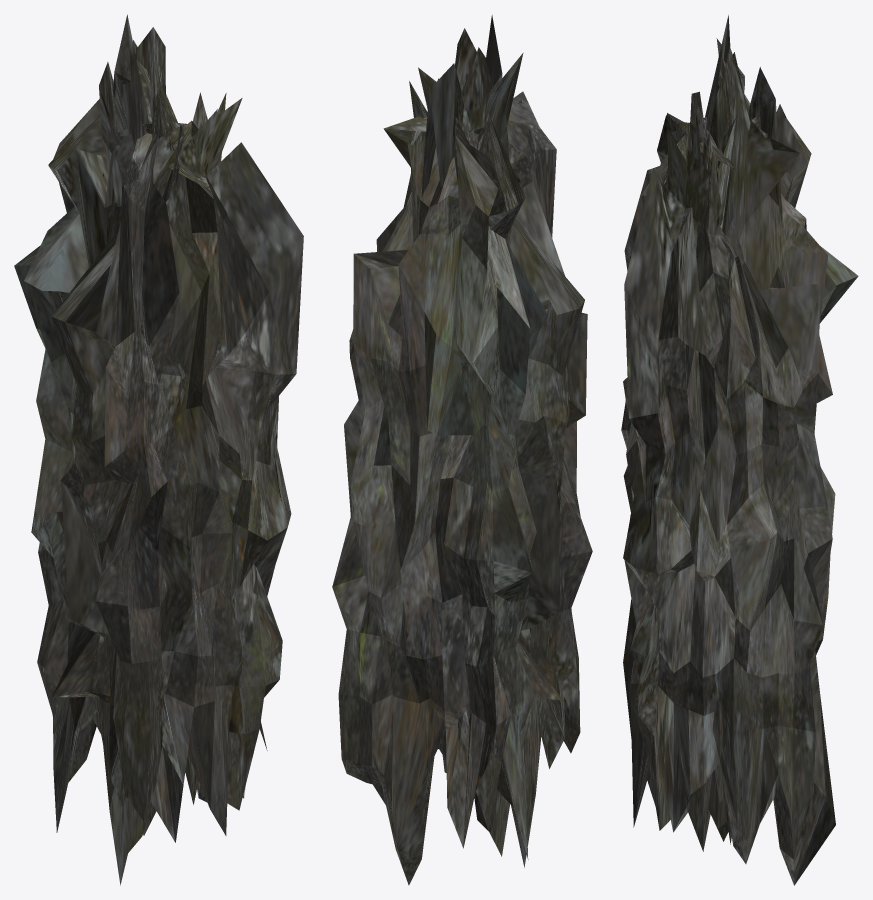
The model's file is rockpillar.fbx.
3 views of the same model, side by side, from view 1: azimuth 30°, elevation 25°; view 2: azimuth 150°, elevation 25°; view 3: azimuth 270°, elevation 25° (orthographic).
Visible parts, largest first — view 1: Cube; view 2: Cube; view 3: Cube.
Part boxes in pixels (x1,y1,x2,y2): Cube: (14,14,303,885); Cube: (332,15,592,885); Cube: (621,15,858,885).
Bounding box in the file's own units: 315 × 1138 × 289.
1 material, 1 textured.
